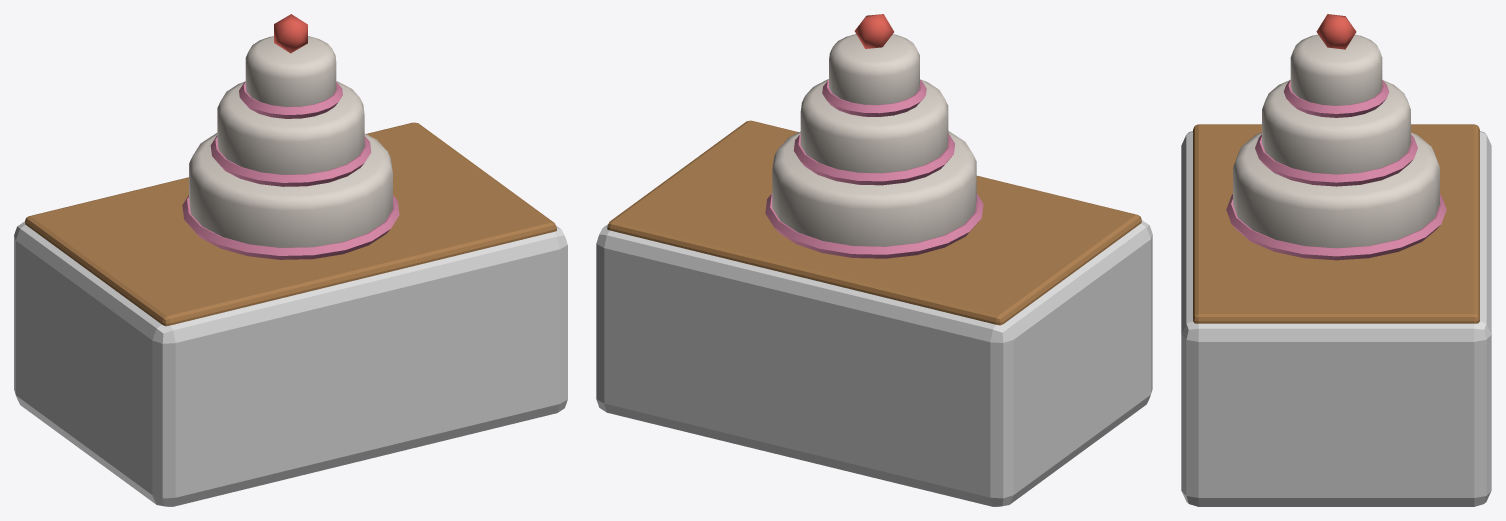
The model's file is cake_table.fbx.
3 renders of one model, left to right at view 1: azimuth 30°, elevation 25°; view 2: azimuth 150°, elevation 25°; view 3: azimuth 270°, elevation 25°, orthographic.
Parts seen in each view (by area): view 1: cake_table; view 2: cake_table; view 3: cake_table.
Boxes of the visible parts, box(x1,y1,x2,y2) form: cake_table: box(14, 14, 567, 506); cake_table: box(596, 14, 1152, 506); cake_table: box(1181, 14, 1491, 506).
Size of the model in its own units: 0.84 by 0.7598 by 0.54.
